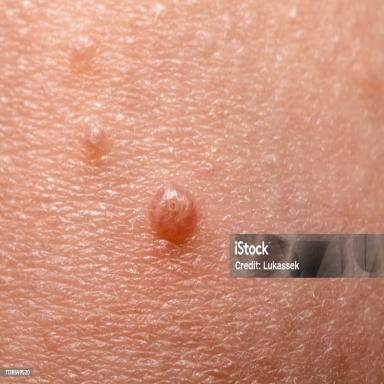Molluscum-Contagiosum: (149, 183, 199, 243), (84, 121, 109, 157), (67, 34, 98, 59)
